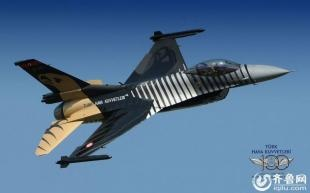airplane: (10, 26, 294, 166)
